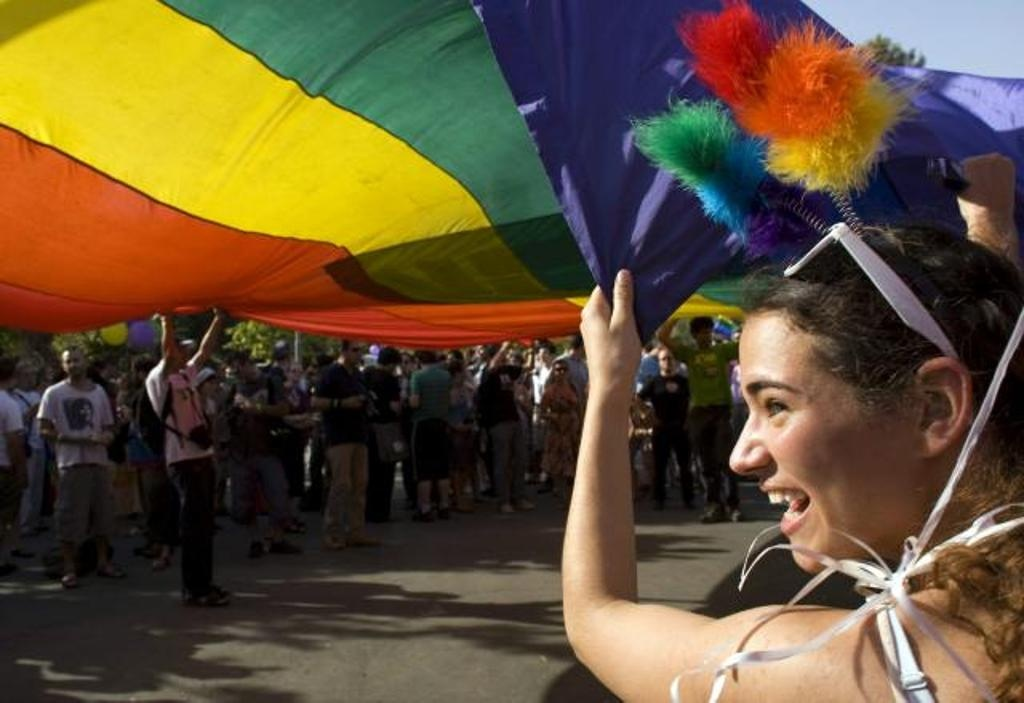human_face: (728, 308, 924, 572), (62, 350, 82, 375), (175, 345, 191, 367), (18, 367, 36, 385), (240, 364, 256, 384), (346, 340, 360, 362), (658, 351, 674, 369), (696, 326, 712, 344), (398, 355, 412, 373), (204, 376, 216, 394), (554, 362, 566, 377), (538, 348, 548, 362)
